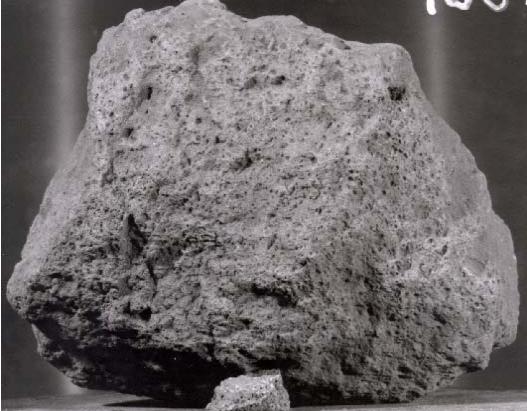Basalt: (74, 16, 465, 399)
